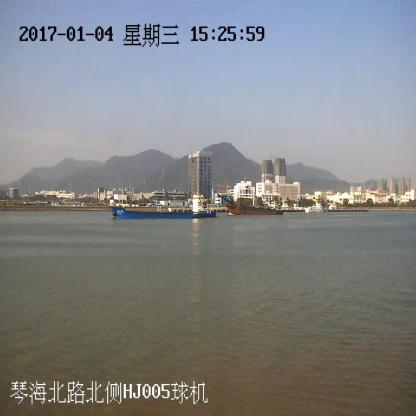Bulk Carrier: (112, 189, 214, 218), (216, 192, 284, 217)
